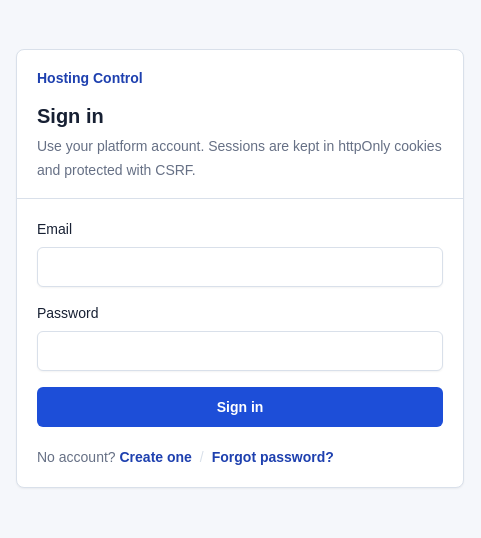
Test: LoginPage › shows a safe generic login error
The width and height of the screenshot is (481, 538).
In the field labelled "Email": x=240, y=266 top-left (37, 246), bottom-right (443, 286), type "owner@example.com"
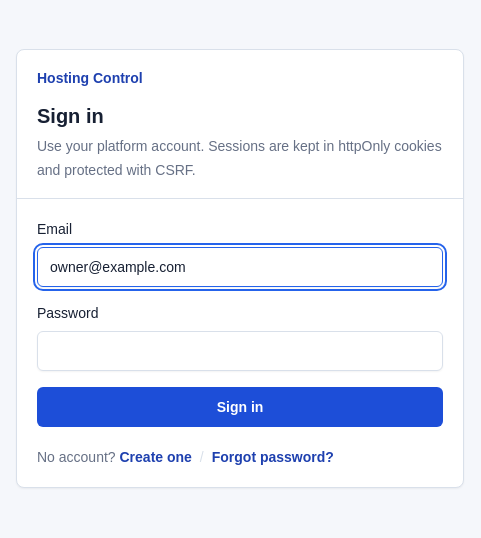
In the password field labelled "Password": x=240, y=350 top-left (37, 330), bottom-right (443, 370), type "correct-horse-battery"
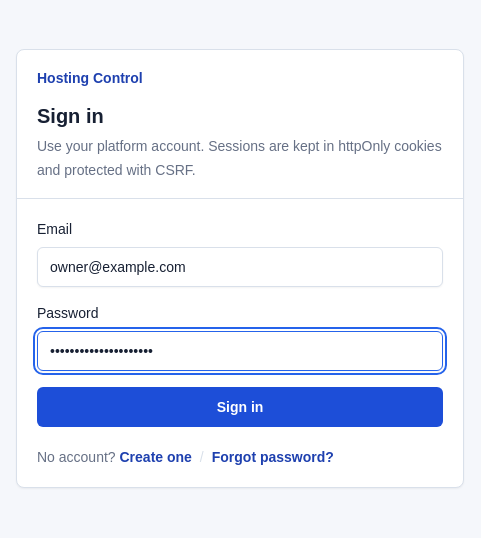
Click the button "Sign in": x=240, y=406 top-left (37, 386), bottom-right (443, 426)
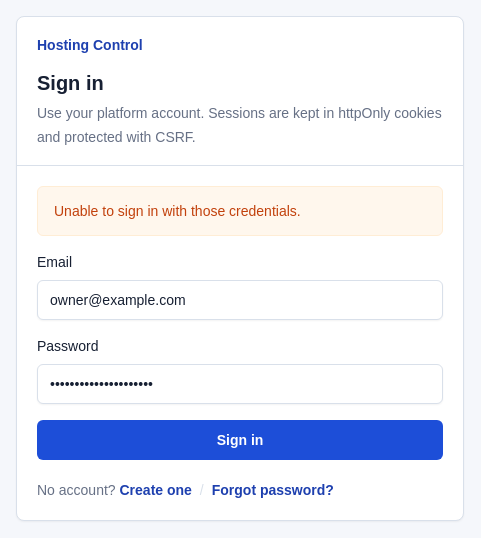
Result: the text "Unable to sign in with those credentials." is shown at top-left (37, 186), bottom-right (443, 236)
